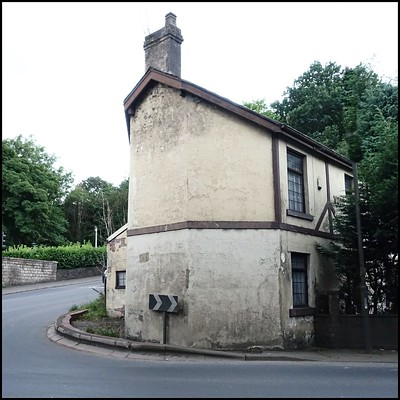medium: (102, 34, 376, 356)
